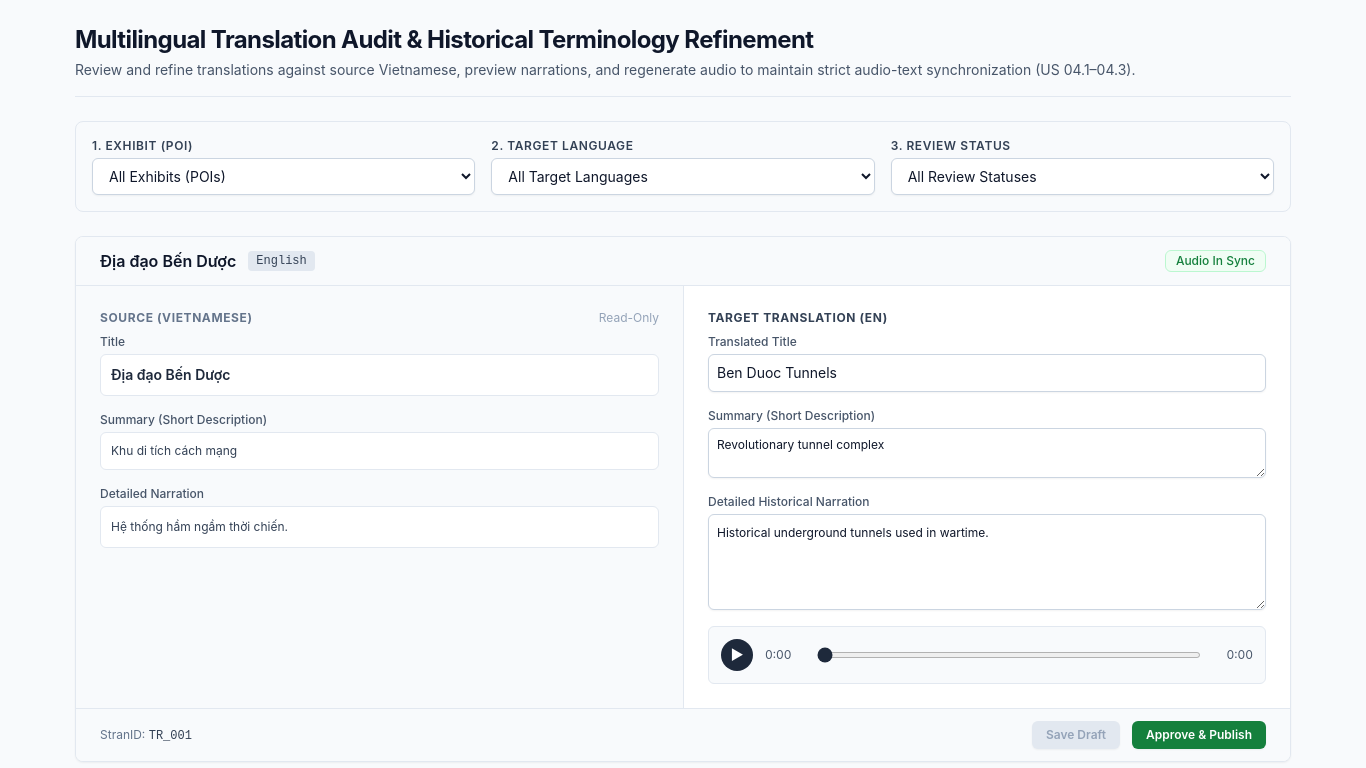
Test: TranslationAuditView (US 04.1 Multilingual Translation Audit & US 04.3 Publication) › shows an error notification when saving edited text fails
The image size is (1366, 768).
Replace the text in the field with test id "target-title-input-TR_001" with "Edited title": (987, 373) left=708, top=354, right=1266, bottom=392
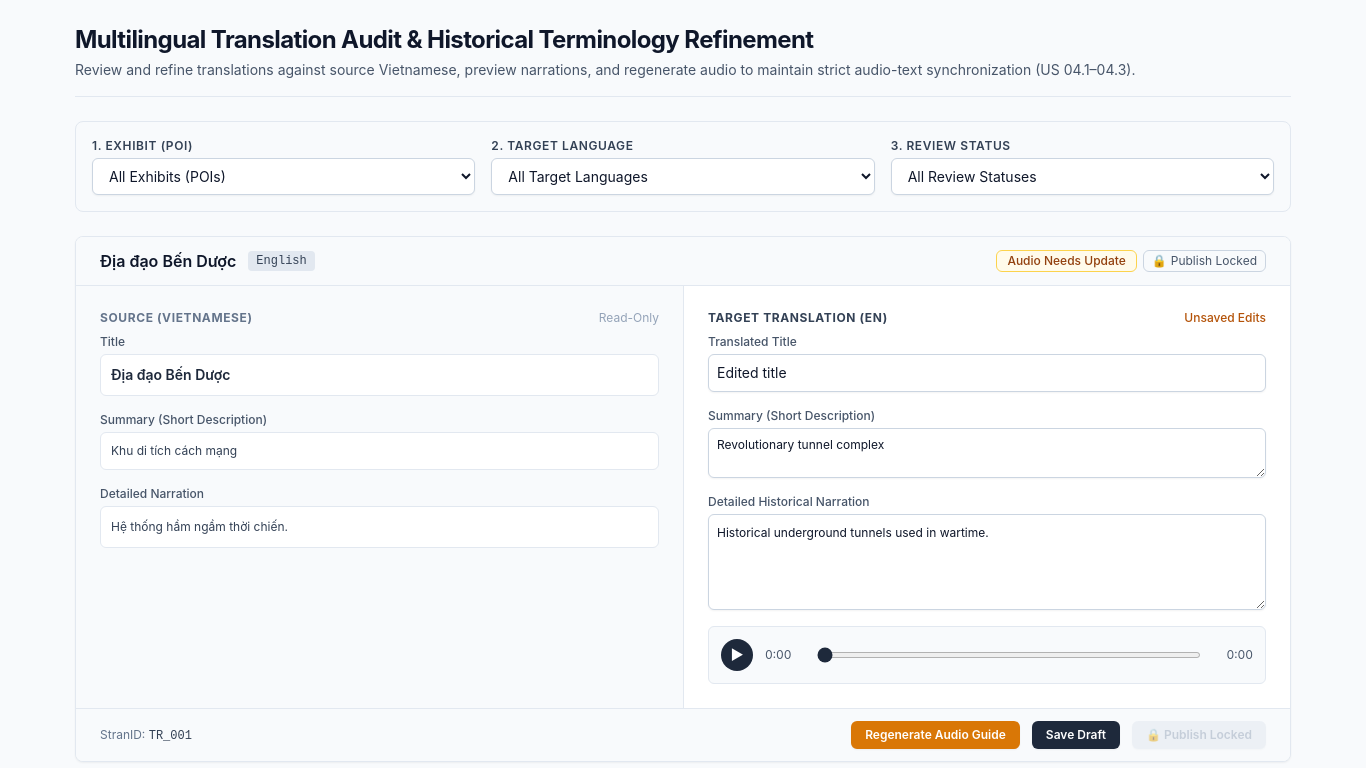
Click the button with test id "save-btn-TR_001": (1076, 735) left=1032, top=721, right=1120, bottom=749
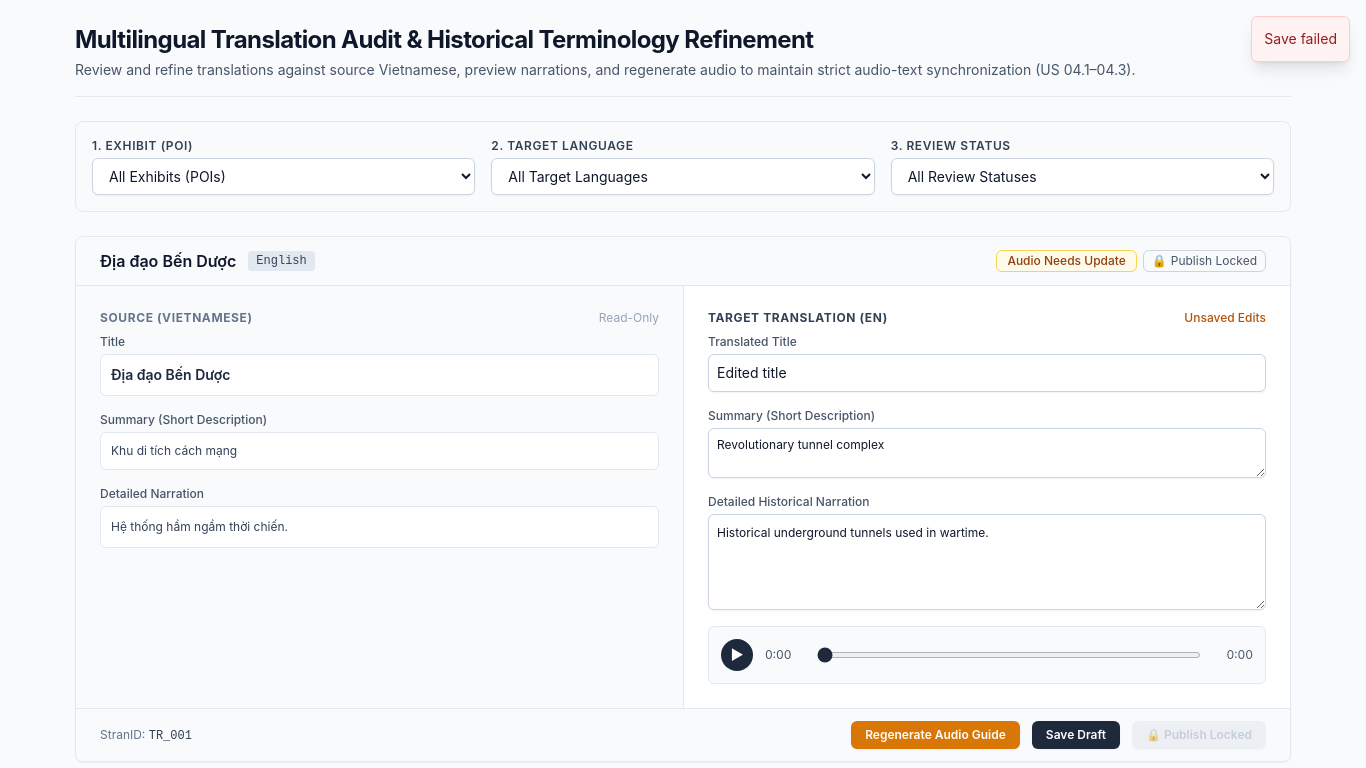
Expected: the message with test id "audit-notification" reads "Save failed", left=1264, top=30, right=1337, bottom=47
